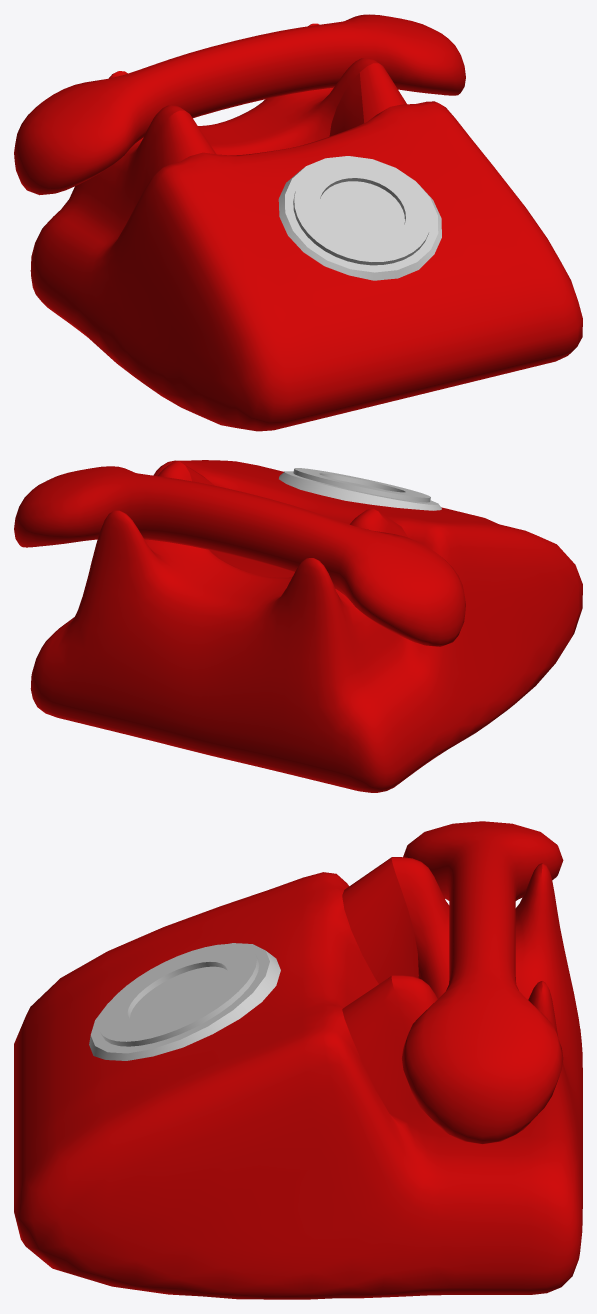
Rendered from Telephone.fbx.
3 renders of one model, top to bottom at view 1: azimuth 30°, elevation 25°; view 2: azimuth 150°, elevation 25°; view 3: azimuth 270°, elevation 25°, orthographic. The views are drawn at different scales.
Parts seen in each view (by area): view 1: Cylinder; view 2: Cylinder; view 3: Cylinder.
Part boxes in pixels (left/top/right/bottom): Cylinder: left=14, top=14, right=582, bottom=431; Cylinder: left=14, top=460, right=582, bottom=792; Cylinder: left=14, top=821, right=582, bottom=1299.
Bounding box in the file's own units: 21.49 × 11.46 × 19.63.
